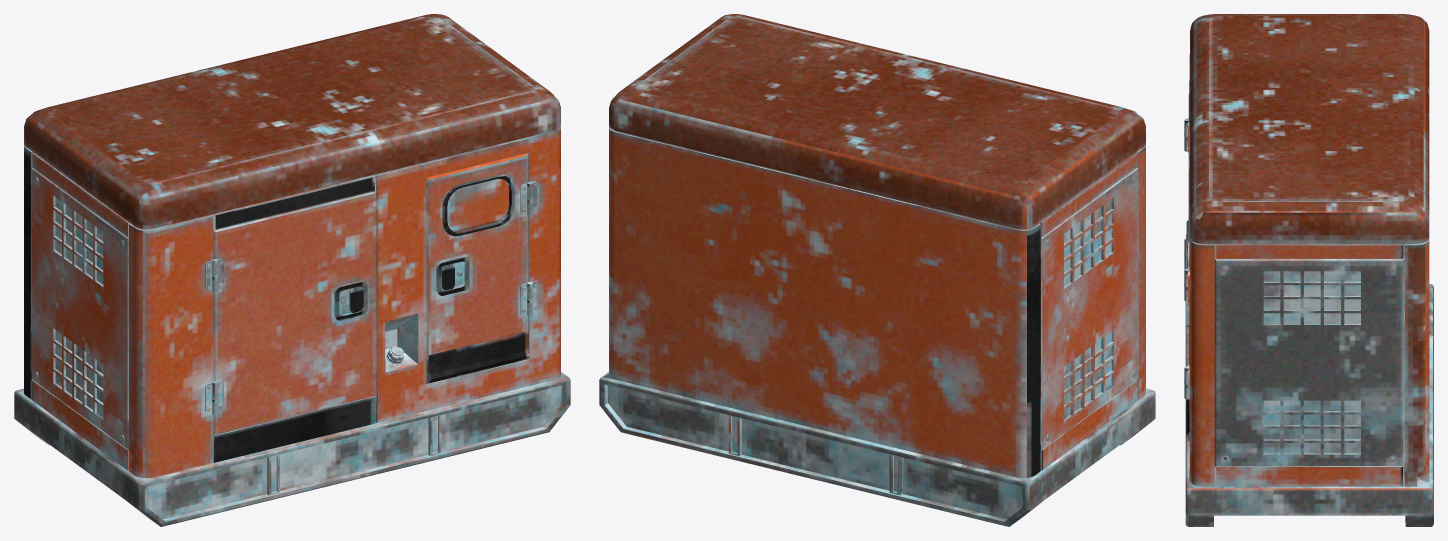
The model's file is dizel.fbx.
3 renders of one model, left to right at view 1: azimuth 30°, elevation 25°; view 2: azimuth 150°, elevation 25°; view 3: azimuth 270°, elevation 25°, orthographic. The views are drawn at different scales.
Visible parts, largest first — view 1: dizel; view 2: dizel; view 3: dizel.
Boxes of the visible parts, bbox=[...] form: dizel: bbox=[14, 14, 570, 526]; dizel: bbox=[599, 14, 1155, 526]; dizel: bbox=[1184, 14, 1433, 526].
Bounding box in the file's own units: 812 × 600 × 417.
